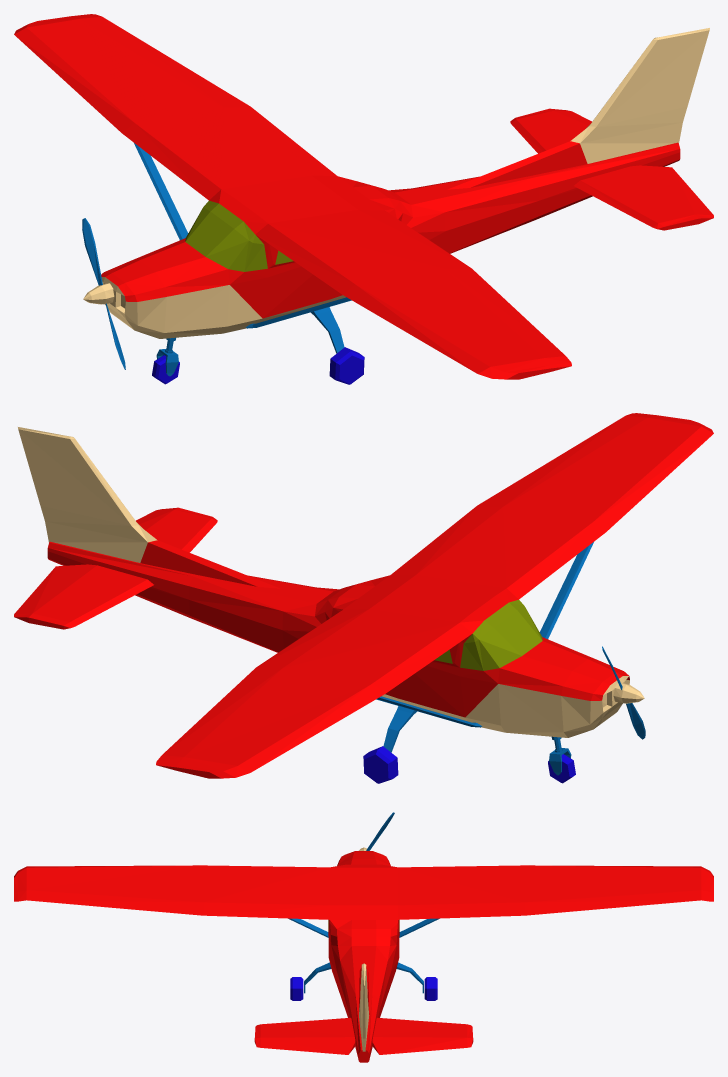
The picture shows the model from 3 angles, top to bottom: view 1: azimuth 30°, elevation 25°; view 2: azimuth 150°, elevation 25°; view 3: azimuth 270°, elevation 25°; orthographic projection. The views are drawn at different scales.
Parts seen in each view (by area): view 1: awionetka; view 2: awionetka; view 3: awionetka.
Boxes of the visible parts, x1,y1,x2,y2 form: awionetka: (14, 14, 713, 384); awionetka: (14, 413, 713, 783); awionetka: (14, 812, 713, 1062).
Size of the model in its own units: 2488 by 3305 by 854.
